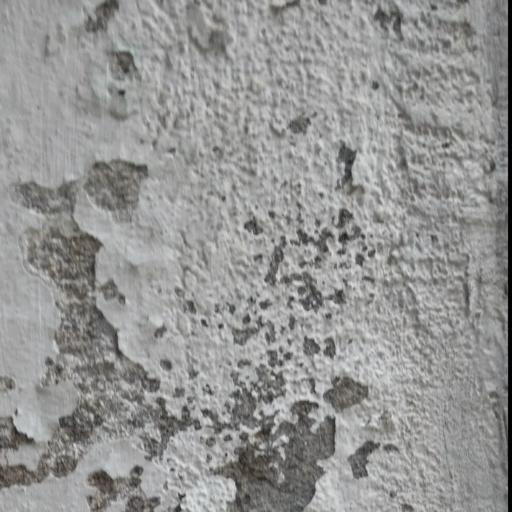peeling: (13, 158, 205, 489), (214, 202, 371, 505)
